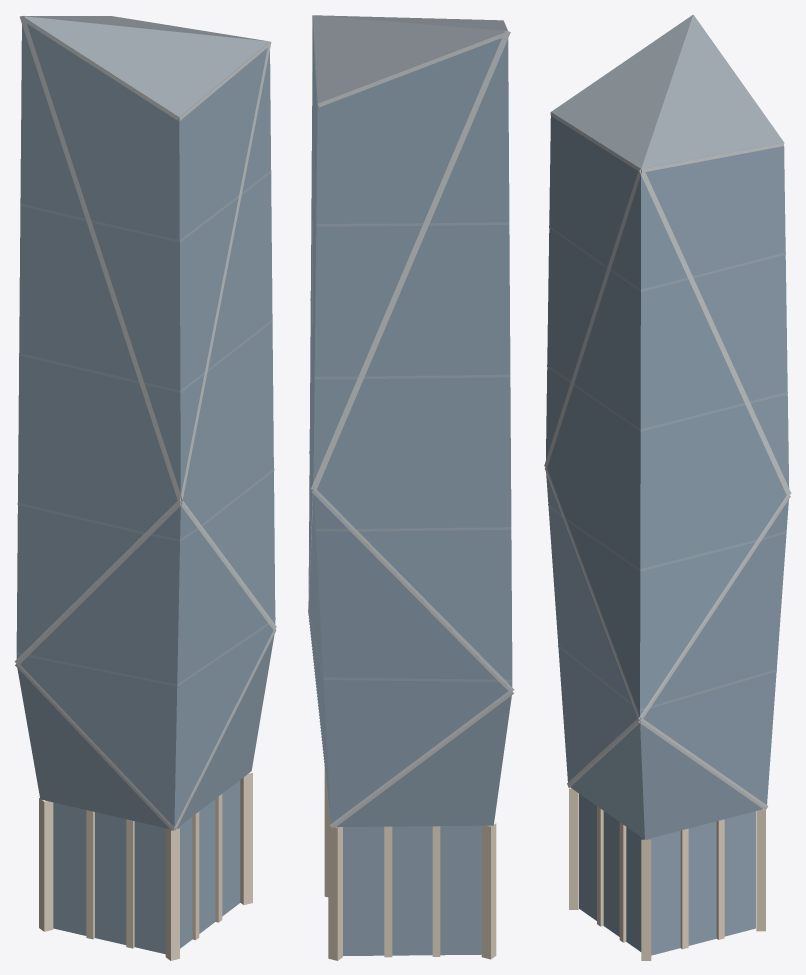
File: detail.glb
3 views of the same model, side by side, from view 1: azimuth 30°, elevation 25°; view 2: azimuth 150°, elevation 25°; view 3: azimuth 270°, elevation 25° (orthographic). The views are drawn at different scales.
Visible parts, largest first — view 1: f5-tower; view 2: f5-tower; view 3: f5-tower.
Boxes of the visible parts, x1=… form: f5-tower: x1=14, y1=16, x2=276, y2=960; f5-tower: x1=308, y1=15, x2=514, y2=960; f5-tower: x1=544, y1=14, x2=791, y2=960.
Bounding box in the file's own units: 56.18 × 211 × 55.54.
